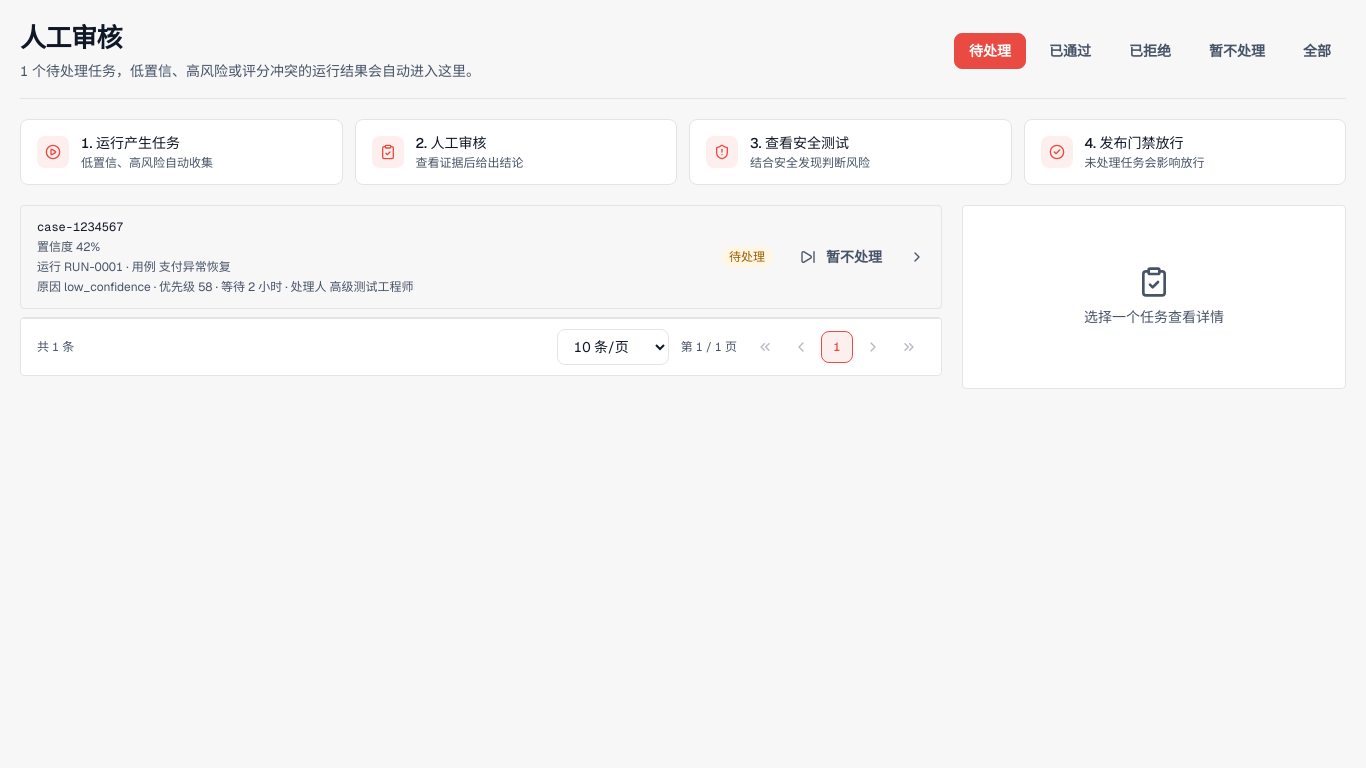
Test: ReviewWorkbench › shows where review tasks come from and where they go next
Expected: the text "原因 low_confidence · 优先级 58 · 等待 2 小时 · 处理人 高级测试工程师" is shown, 37,279 -> 414,295
Expected: the text "1 个待处理任务，低置信、高风险或评分冲突的运行结果会自动进入这里。" is shown, 20,60 -> 480,82
Click the text "case-1234567": (80, 227) 37,219 -> 123,235
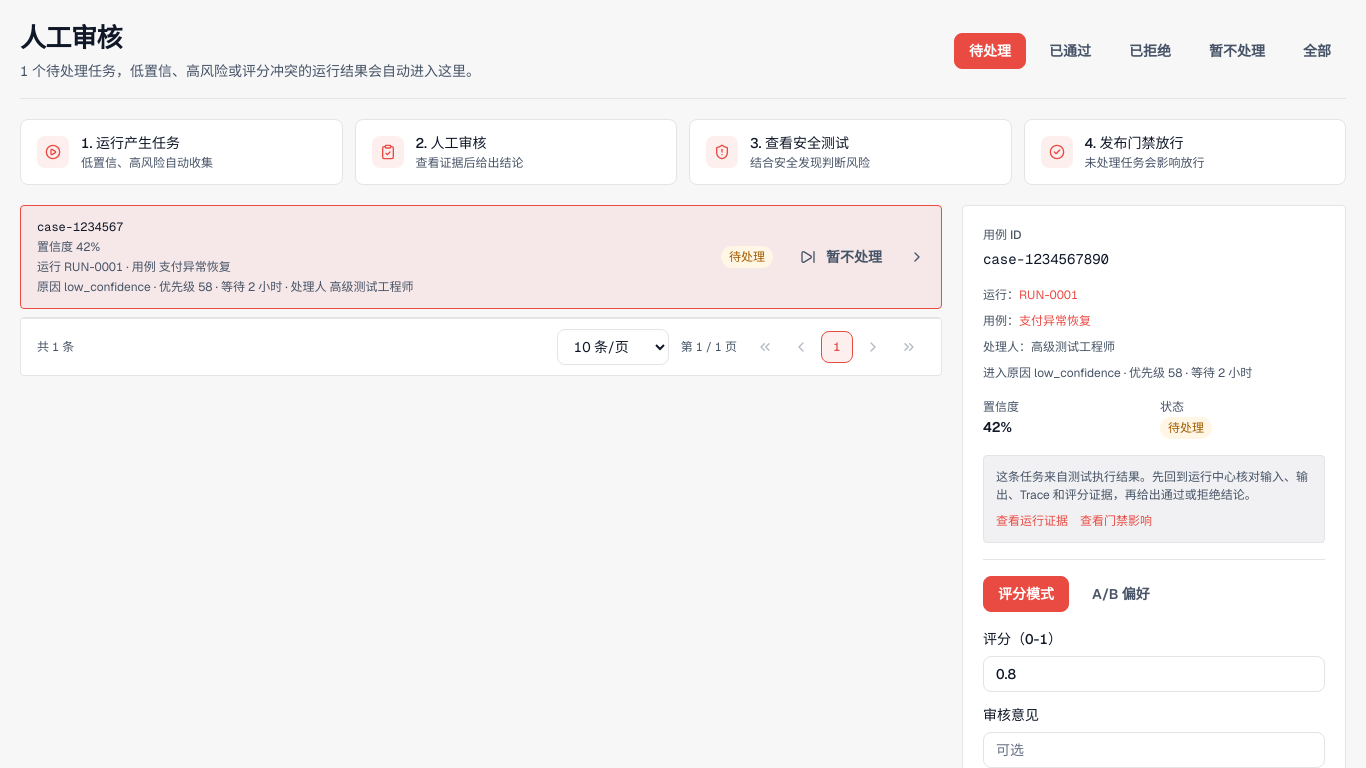
Expected: the button with aria-label "暂不处理 case-1234567" is shown, 785,239 -> 897,275
Result: the text "先回到运行中心核对输入、输出、Trace" is shown at 996,469 -> 1308,503
